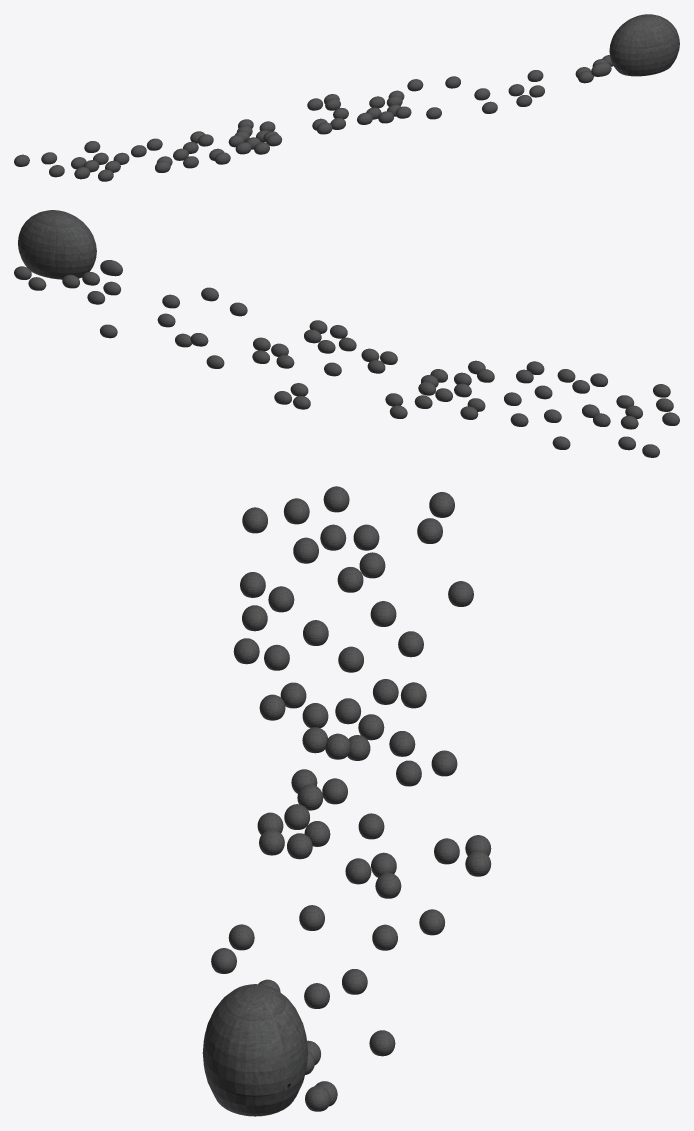
File: rock.glb
The picture shows the model from 3 angles, top to bottom: view 1: azimuth 30°, elevation 25°; view 2: azimuth 150°, elevation 25°; view 3: azimuth 270°, elevation 25°; orthographic projection. The views are drawn at different scales.
Visible parts, largest first — view 1: fish2.001; view 2: fish2.001; view 3: fish2.001.
Part boxes in pixels (bbox=[...]): fish2.001: bbox=[14, 14, 679, 181]; fish2.001: bbox=[14, 210, 679, 457]; fish2.001: bbox=[202, 486, 491, 1116].
Bounding box in the file's own units: 3.16 × 0.3301 × 0.6401.
1 material, 1 textured.
